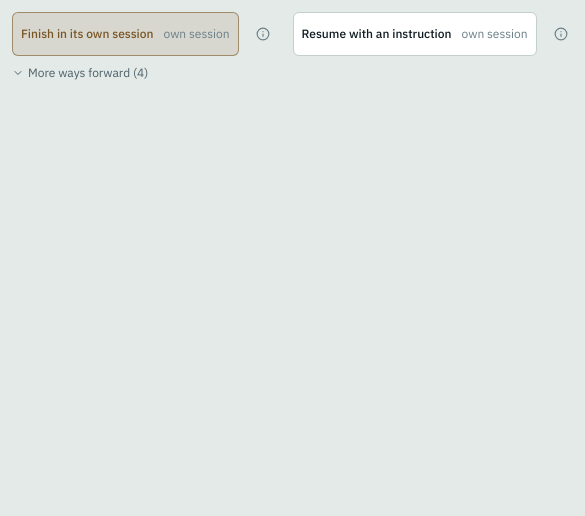
Scenario: <RecoveryActions> › groups: own-session leads, agent follows, the rest fold with visible blurbs
This screenshot has width=585, height=516.
Click the heading "More ways forward (4)". click: [80, 73]
box: [12,64,148,81]
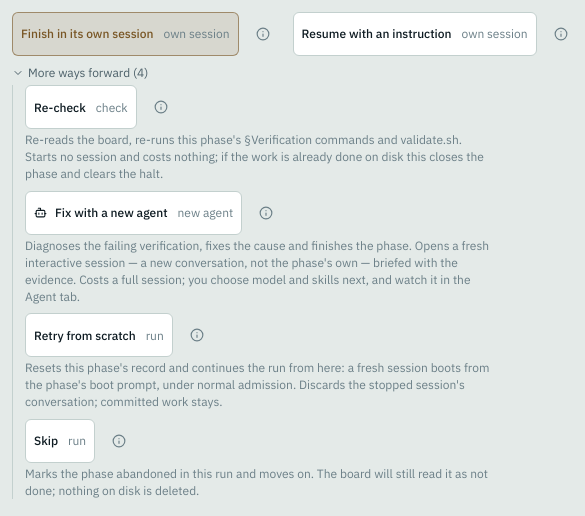
Result: the text "Discards the stopped session's conversation" is shown at [25,360,489,409]
